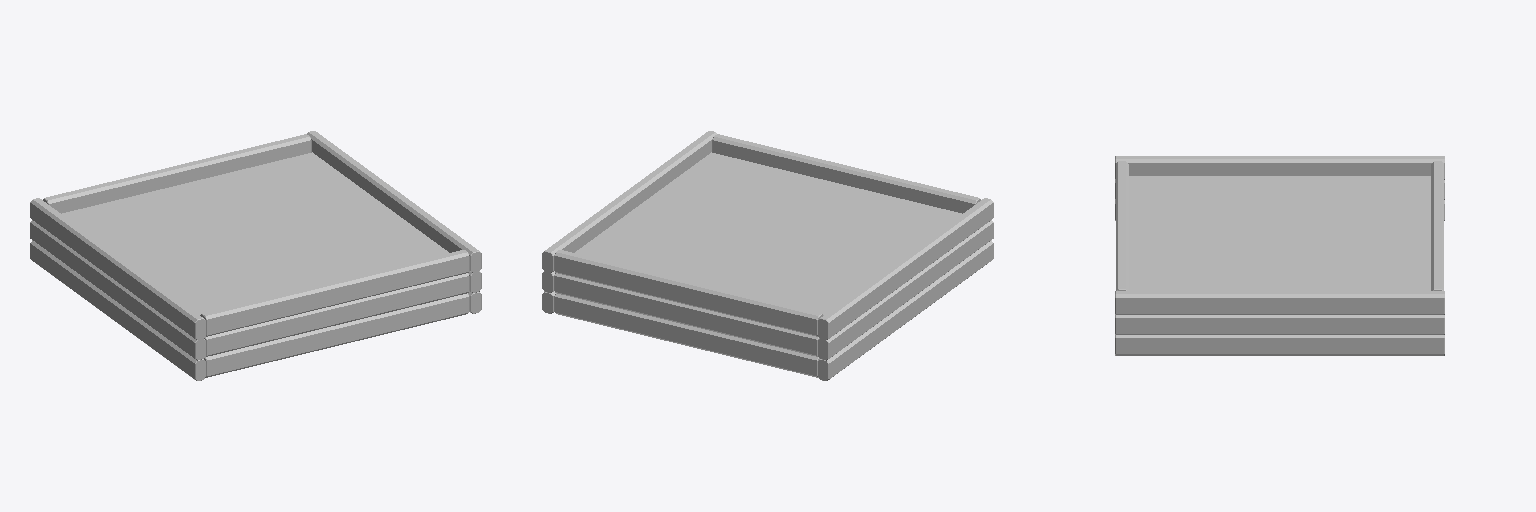
Rendered from Sandkasten01LP.obj.
3 renders of one model, left to right at view 1: azimuth 30°, elevation 25°; view 2: azimuth 150°, elevation 25°; view 3: azimuth 270°, elevation 25°, orthographic.
Visible parts, largest first — view 1: Sandkasten_fläche; view 2: Sandkasten_fläche; view 3: Sandkasten_fläche.
Part boxes in pixels (left/top/right/bottom): Sandkasten_fläche: left=30, top=131, right=481, bottom=380; Sandkasten_fläche: left=542, top=131, right=993, bottom=380; Sandkasten_fläche: left=1115, top=156, right=1444, bottom=355.
Bounding box in the file's own units: 4.3 × 0.8855 × 4.28.